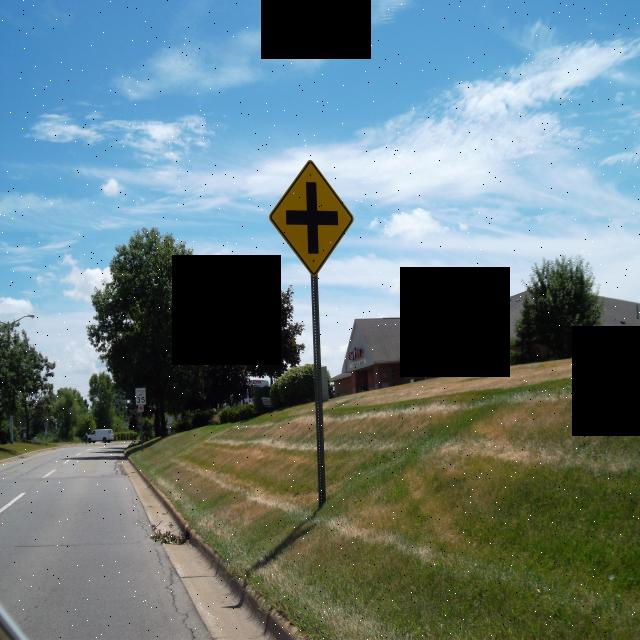warning: (268, 159, 356, 279)
